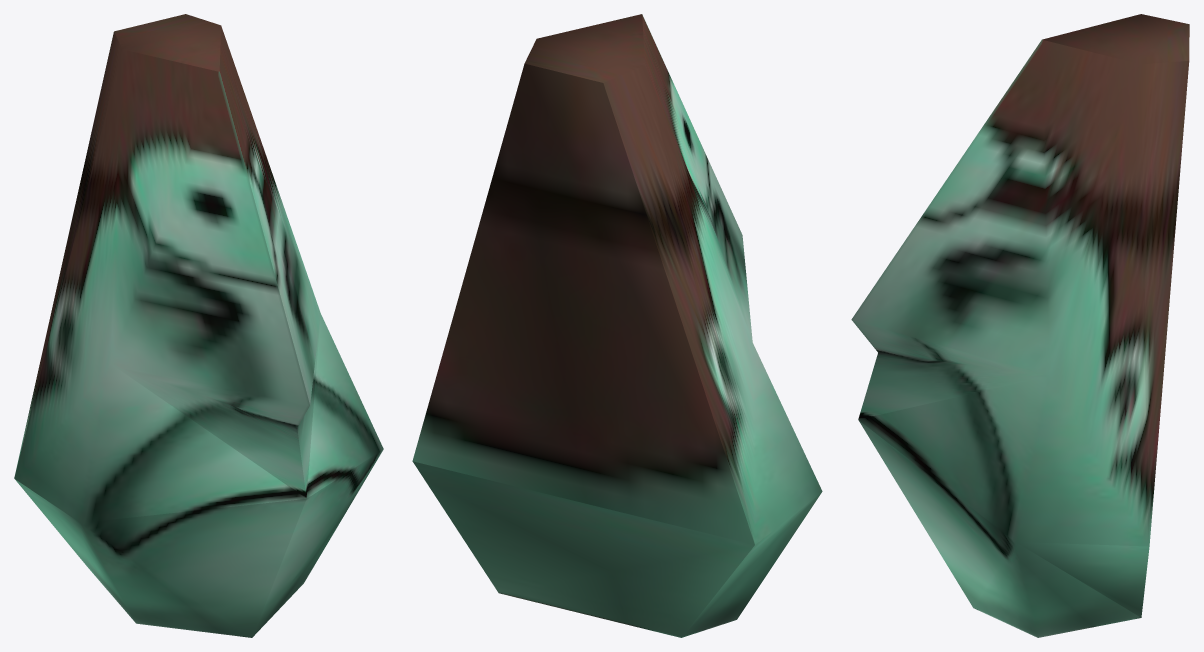
The picture shows the model from 3 angles, left to right: view 1: azimuth 30°, elevation 25°; view 2: azimuth 150°, elevation 25°; view 3: azimuth 270°, elevation 25°; orthographic projection. The views are drawn at different scales.
Visible parts, largest first — view 1: telemarketer; view 2: telemarketer; view 3: telemarketer.
Part boxes in pixels (bbox=[...]): telemarketer: bbox=[14, 14, 383, 637]; telemarketer: bbox=[412, 14, 822, 637]; telemarketer: bbox=[851, 14, 1189, 637].
Bounding box in the file's own units: 1.3 × 2.16 × 1.17.
1 material, 1 textured.
